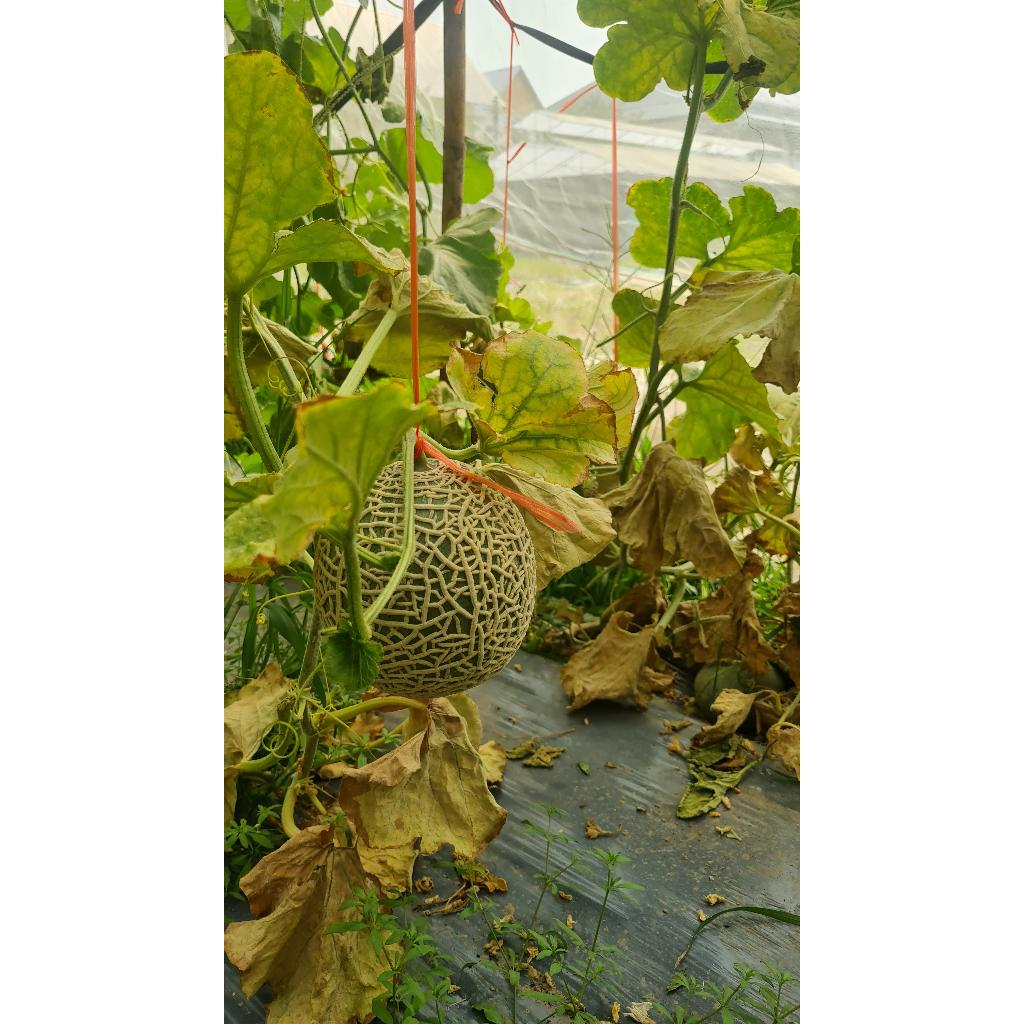melon: (372, 458, 536, 698), (358, 462, 402, 544), (312, 542, 346, 626)
